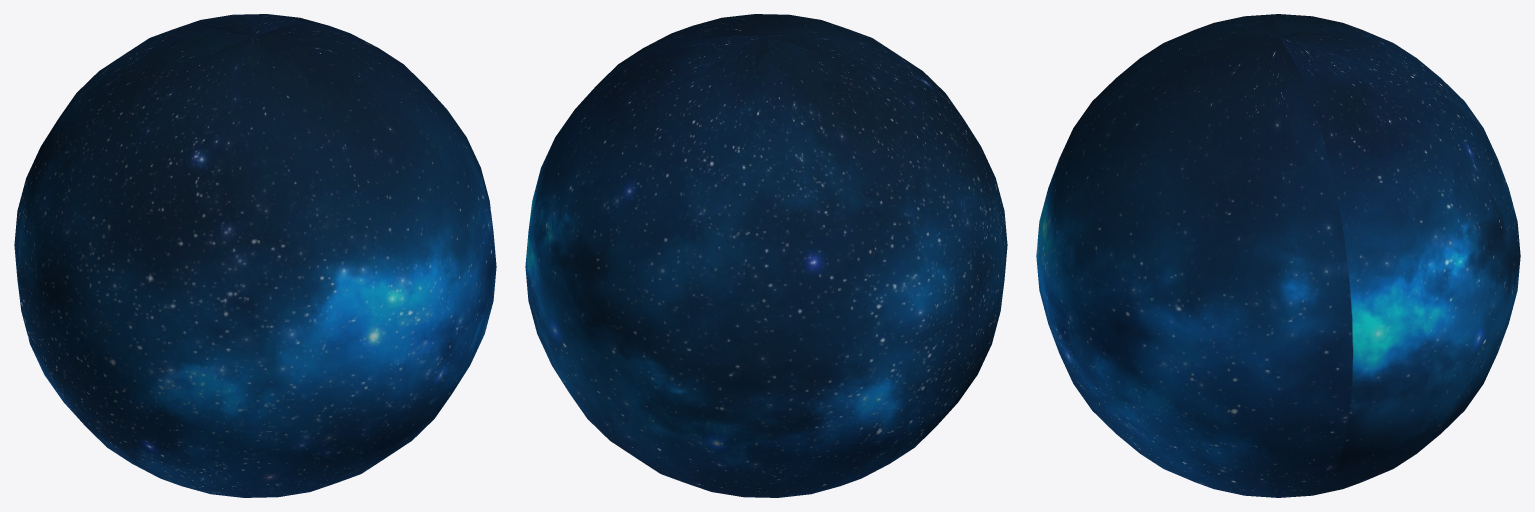
The model's file is maya2sketchfab.fbx.
3 views of the same model, side by side, from view 1: azimuth 30°, elevation 25°; view 2: azimuth 150°, elevation 25°; view 3: azimuth 270°, elevation 25° (orthographic).
Visible parts, largest first — view 1: pSphere17; view 2: pSphere17; view 3: pSphere17.
Part boxes in pixels (x1=…): pSphere17: x1=14, y1=14, x2=496, y2=497; pSphere17: x1=525, y1=14, x2=1007, y2=497; pSphere17: x1=1036, y1=14, x2=1520, y2=497.
Size of the model in its own units: 154 by 154 by 154.
Materials: 32 (30 with a texture image).
